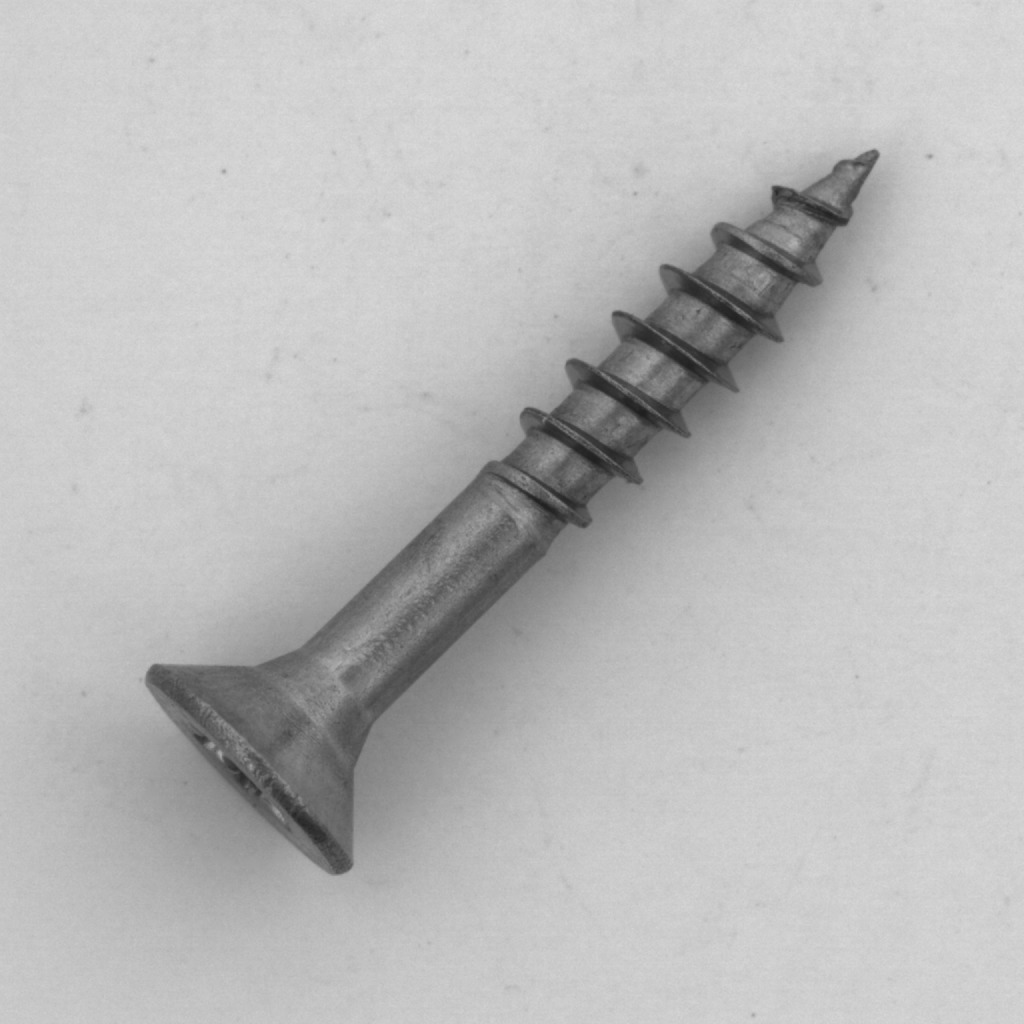good: (122, 130, 896, 898)
